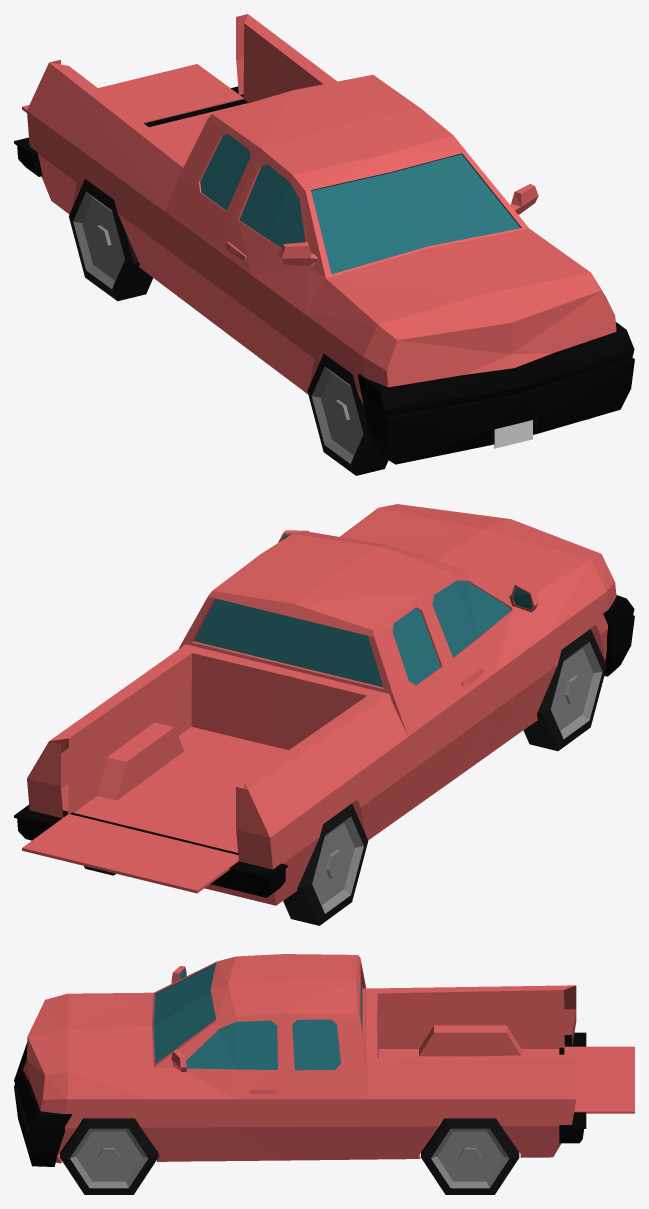
Rendered from pickup_truck.glb.
3 views of the same model, one above another, from view 1: azimuth 30°, elevation 25°; view 2: azimuth 150°, elevation 25°; view 3: azimuth 270°, elevation 25° (orthographic). The views are drawn at different scales.
Parts seen in each view (by area): view 1: Main_Car-material, Bumpers-material, Window-material, Metal-material, Black-material, Tailgate, License_Plate-material; view 2: Main_Car-material, Window-material, Tailgate, Metal-material, Black-material, Bumpers-material; view 3: Main_Car-material, Window-material, Metal-material, Black-material, Tailgate, Bumpers-material.
Part boxes in pixels (box(x1,y1,x2,y2)): Main_Car-material: box(27, 14, 616, 406); Bumpers-material: box(14, 86, 634, 464); Window-material: box(200, 134, 521, 274); Metal-material: box(73, 192, 363, 463); Black-material: box(68, 179, 590, 475); Tailgate: box(22, 64, 243, 123); License_Plate-material: box(494, 420, 532, 448); Main_Car-material: box(27, 504, 616, 905); Window-material: box(194, 534, 532, 687); Tailgate: box(22, 814, 238, 893); Metal-material: box(312, 642, 602, 913); Black-material: box(84, 629, 606, 925); Bumpers-material: box(14, 595, 634, 897); Main_Car-material: box(23, 954, 576, 1163); Window-material: box(153, 963, 362, 1070); Metal-material: box(70, 1128, 509, 1188); Black-material: box(60, 1118, 519, 1194); Tailgate: box(564, 1046, 634, 1113); Bumpers-material: box(14, 1032, 586, 1166).
Size of the model in its own units: 1.91 by 1.6 by 5.27.
